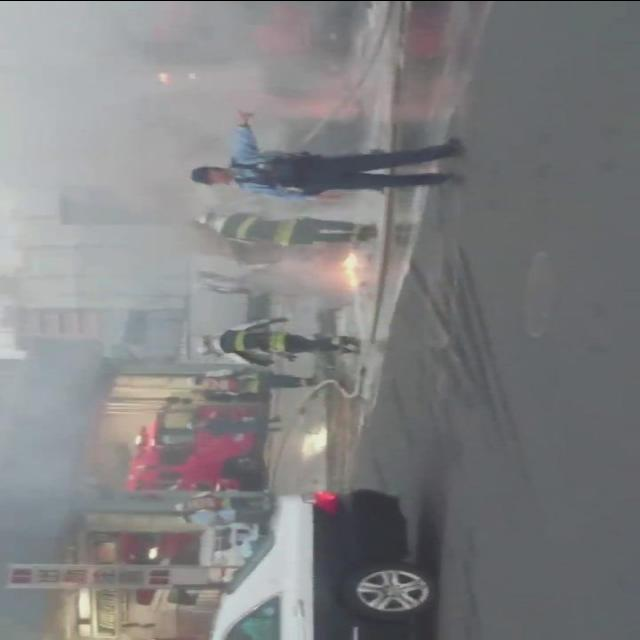Fire: (337, 252, 360, 292)
